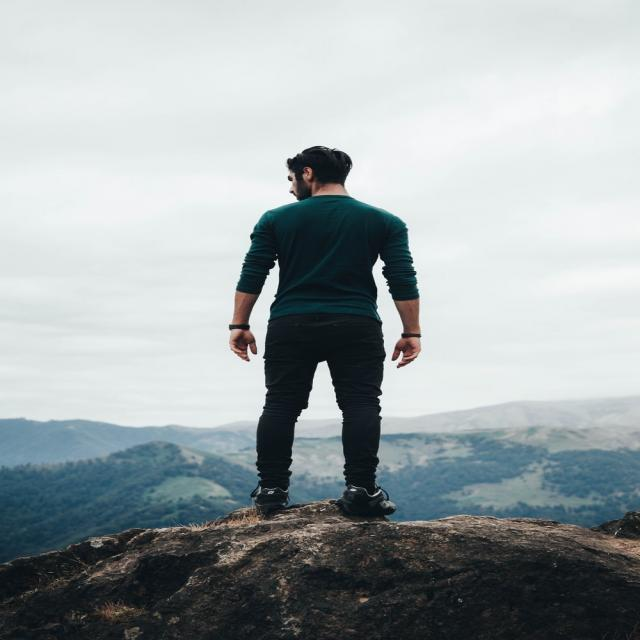walking: (184, 143, 434, 531)
